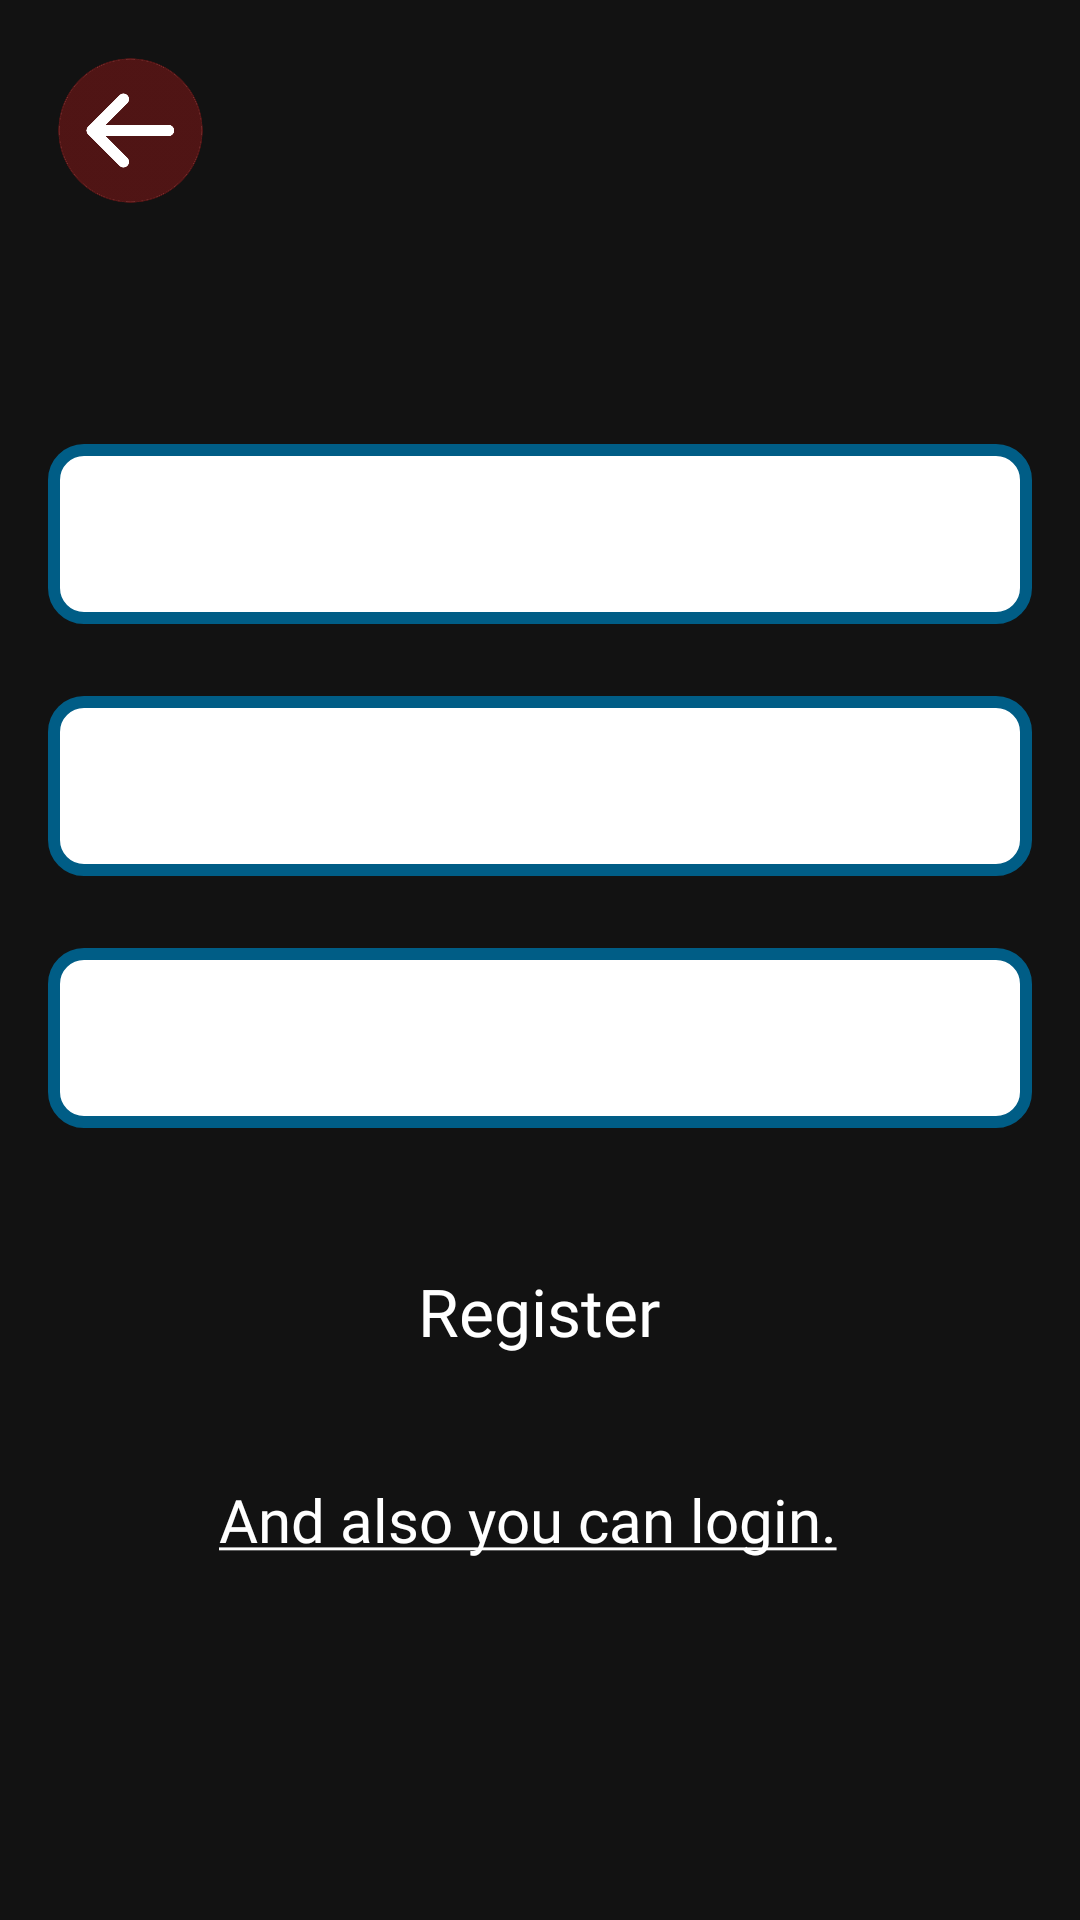

Where to tap for icons on this 1080px x 1920px app screen, as (x,y):
back: (130,130)
